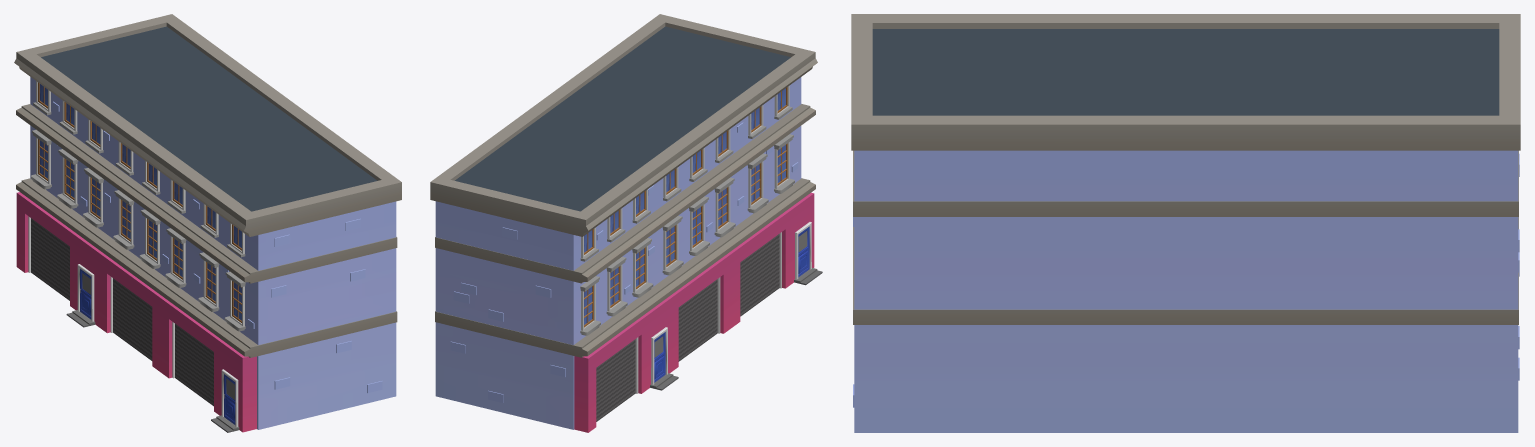
The model's file is Building_20_2_G.fbx.
3 renders of one model, left to right at view 1: azimuth 30°, elevation 25°; view 2: azimuth 150°, elevation 25°; view 3: azimuth 270°, elevation 25°, orthographic. The views are drawn at different scales.
Parts seen in each view (by area): view 1: Building_20_2_G; view 2: Building_20_2_G; view 3: Building_20_2_G.
Part boxes in pixels (left/top/right/bottom): Building_20_2_G: left=14, top=14, right=401, bottom=432; Building_20_2_G: left=430, top=14, right=822, bottom=432; Building_20_2_G: left=851, top=14, right=1520, bottom=432.
Size of the model in its own units: 774 by 938 by 1827.
